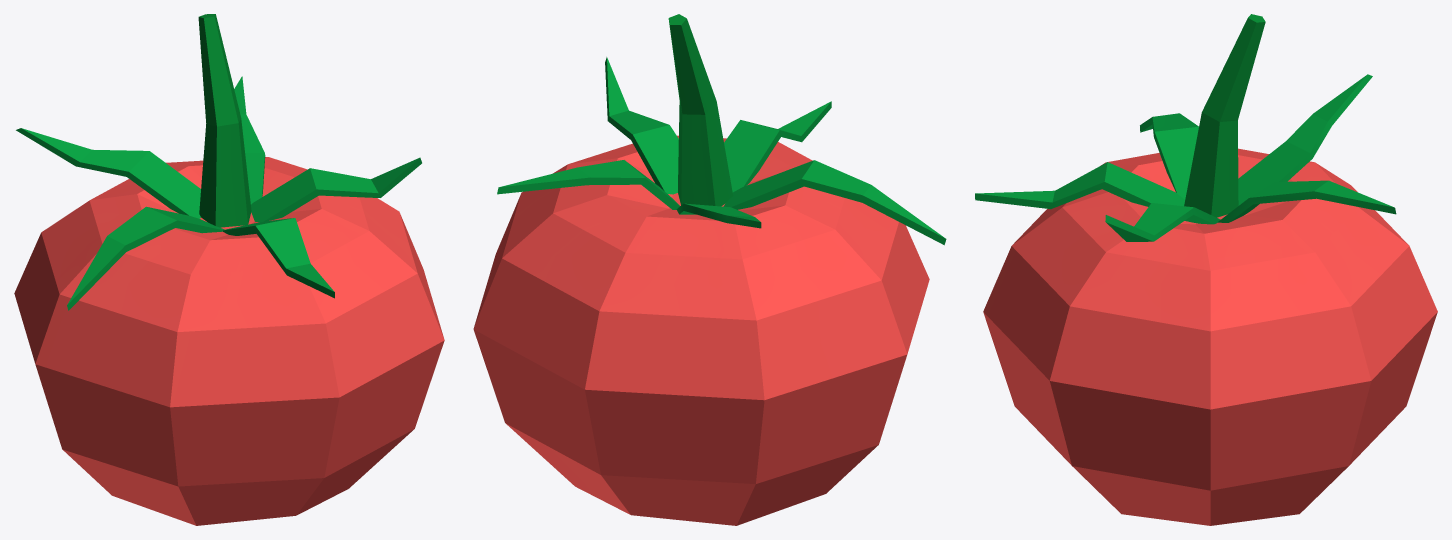
File: tomato_001.obj
3 renders of one model, left to right at view 1: azimuth 30°, elevation 25°; view 2: azimuth 150°, elevation 25°; view 3: azimuth 270°, elevation 25°, orthographic. The views are drawn at different scales.
Visible parts, largest first — view 1: tomato_001; view 2: tomato_001; view 3: tomato_001.
Part boxes in pixels (left/top/right/bottom): tomato_001: left=14, top=14, right=444, bottom=525; tomato_001: left=473, top=14, right=946, bottom=525; tomato_001: left=975, top=14, right=1437, bottom=525.
Bounding box in the file's own units: 0.08 × 0.0887 × 0.0794.
